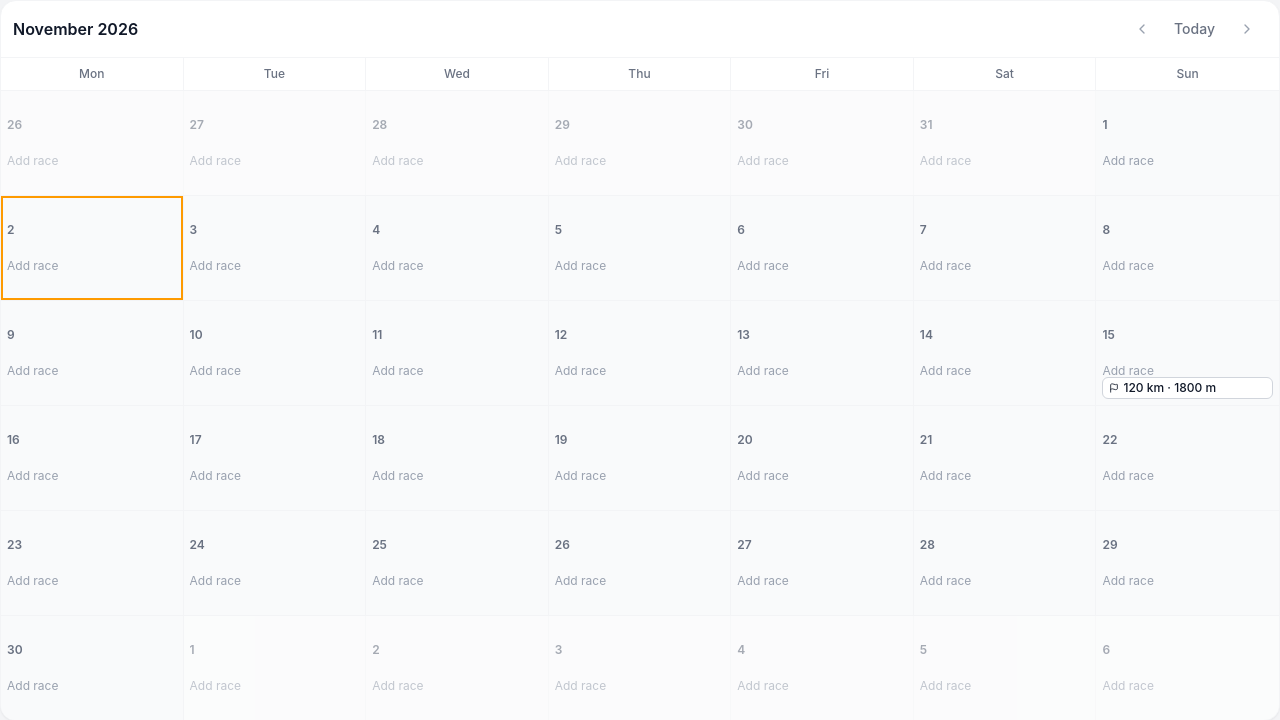
Test: TrainingCalendar › shows an error when deleting a race event fails
Click the button "15 Add race 120 km · 1800 m": (1188, 353) top-left (1096, 301), bottom-right (1279, 405)
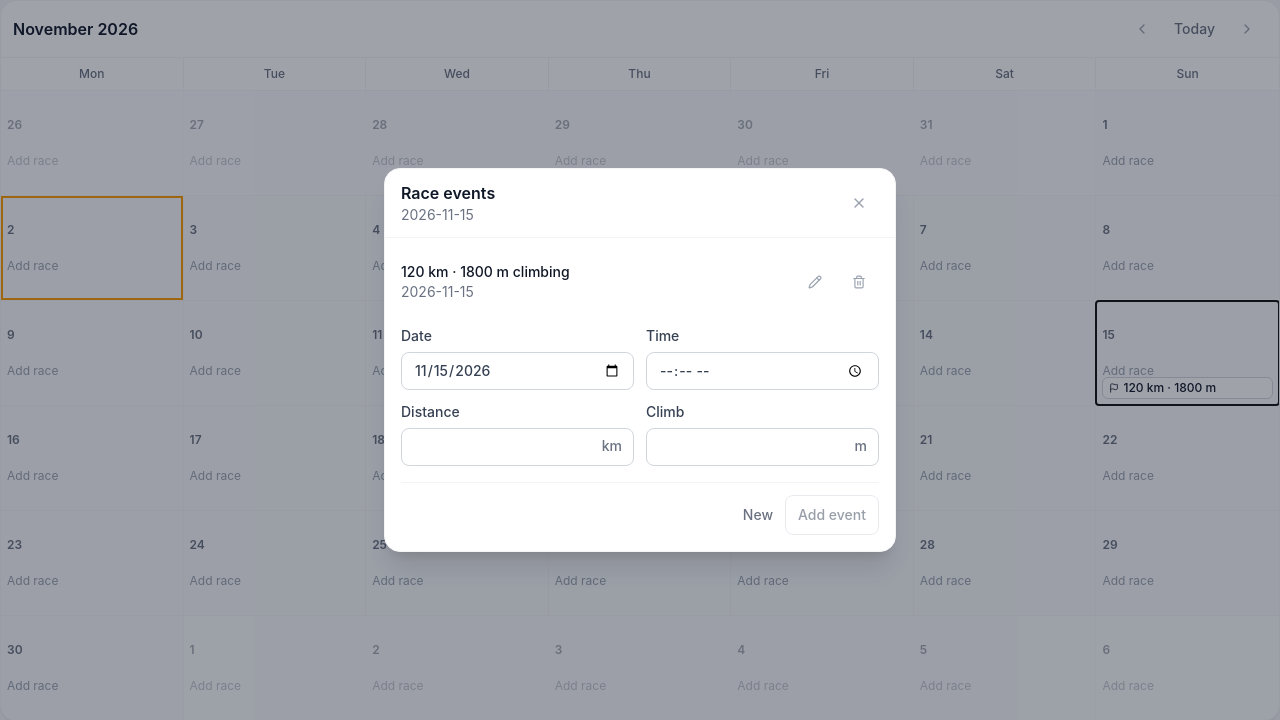
Click the button named "Remove race event": (859, 282) top-left (839, 262), bottom-right (879, 302)
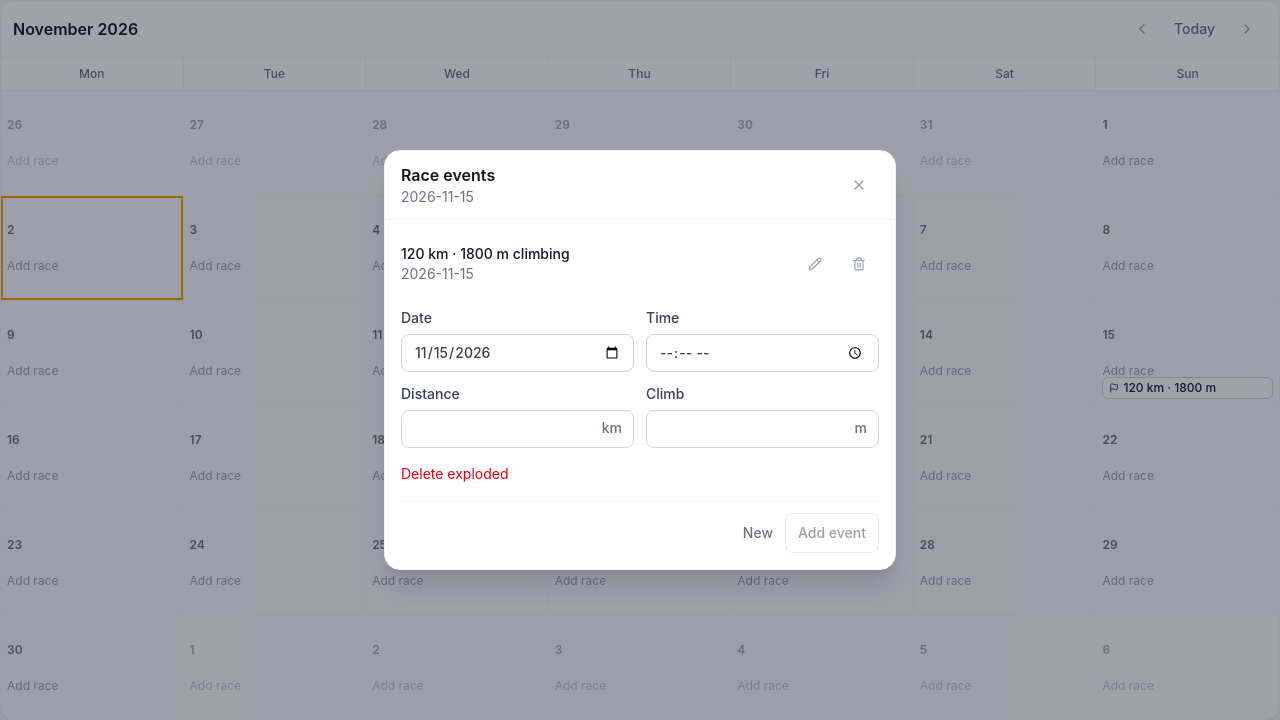
Check: the text "Delete exploded" is shown, box top-left (401, 465), bottom-right (508, 482)
